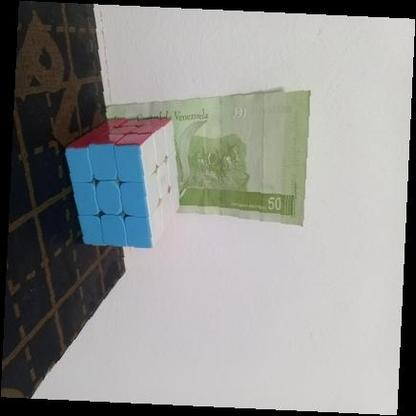vef_back: (98, 90, 310, 226)
